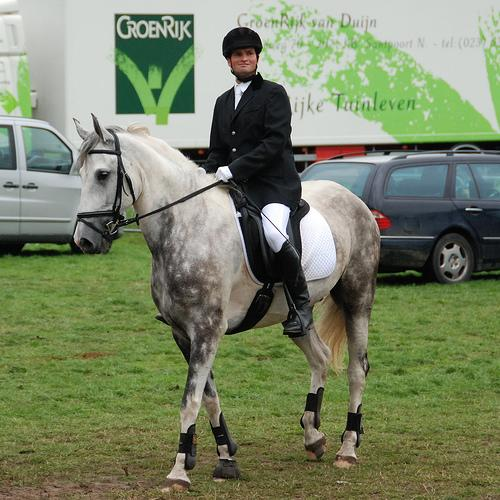person: (207, 26, 318, 342)
